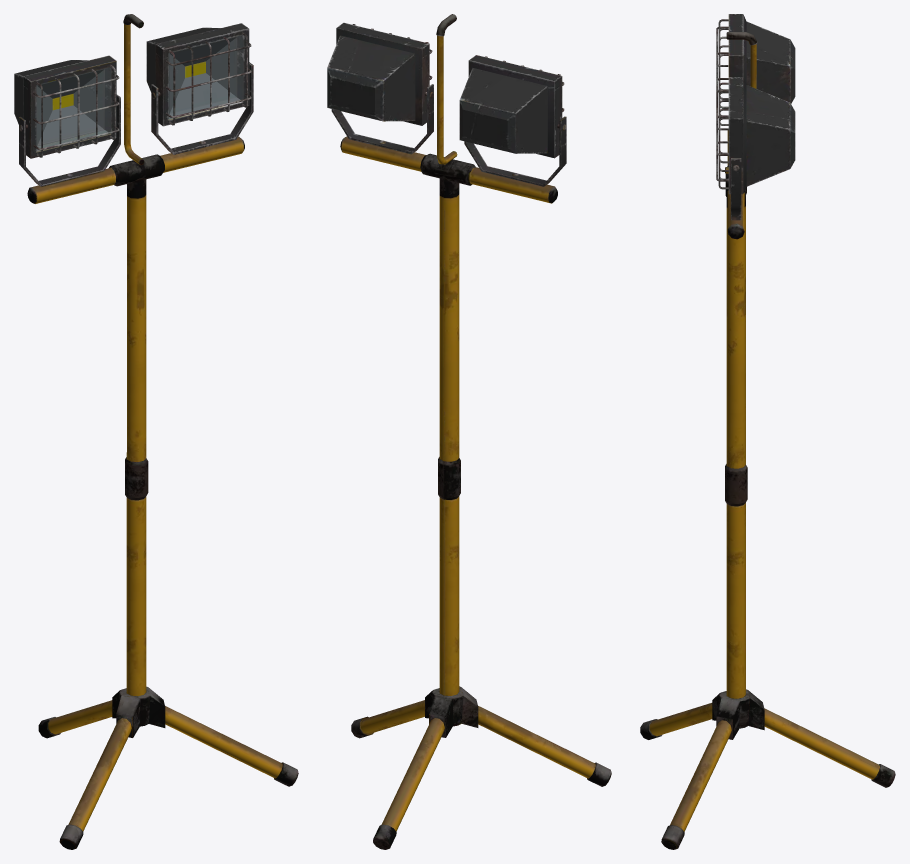
File: flood-light-tripod.glb
3 views of the same model, side by side, from view 1: azimuth 30°, elevation 25°; view 2: azimuth 150°, elevation 25°; view 3: azimuth 270°, elevation 25° (orthographic).
Visible parts, largest first — view 1: Cube_Material_0; view 2: Cube_Material_0; view 3: Cube_Material_0.
Part boxes in pixels (<box>): Cube_Material_0: <box>14,14,298,849</box>; Cube_Material_0: <box>327,14,611,849</box>; Cube_Material_0: <box>640,14,895,849</box>.
Size of the model in its own units: 0.4076 by 1.22 by 0.371.
Materials: 1 (1 with a texture image).
